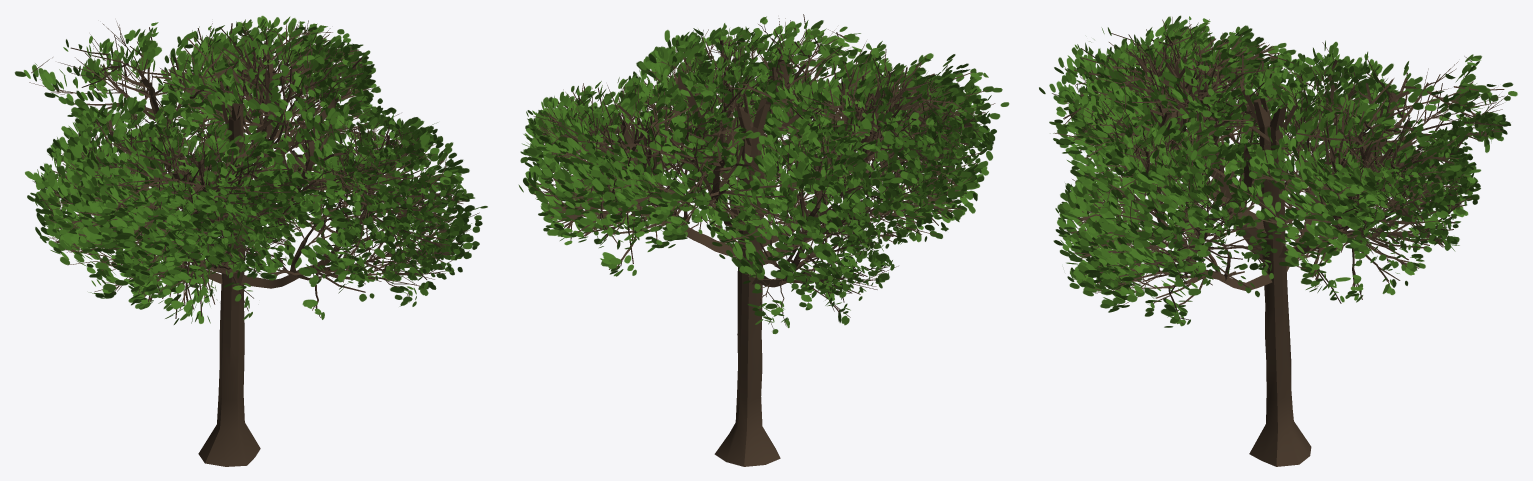
3 views of the same model, side by side, from view 1: azimuth 30°, elevation 25°; view 2: azimuth 150°, elevation 25°; view 3: azimuth 270°, elevation 25° (orthographic).
Parts seen in each view (by area): view 1: oak 01.001_trunk_Mat.001_0.026; view 2: oak 01.001_trunk_Mat.001_0.026; view 3: oak 01.001_trunk_Mat.001_0.026.
Boxes of the visible parts, box(x1,y1,x2,y2) form: oak 01.001_trunk_Mat.001_0.026: box(14, 15, 487, 466); oak 01.001_trunk_Mat.001_0.026: box(518, 14, 1009, 466); oak 01.001_trunk_Mat.001_0.026: box(1039, 15, 1517, 466).
Bounding box in the file's own units: 6.09 × 5.47 × 6.47.
Materials: 2 (1 with a texture image).
